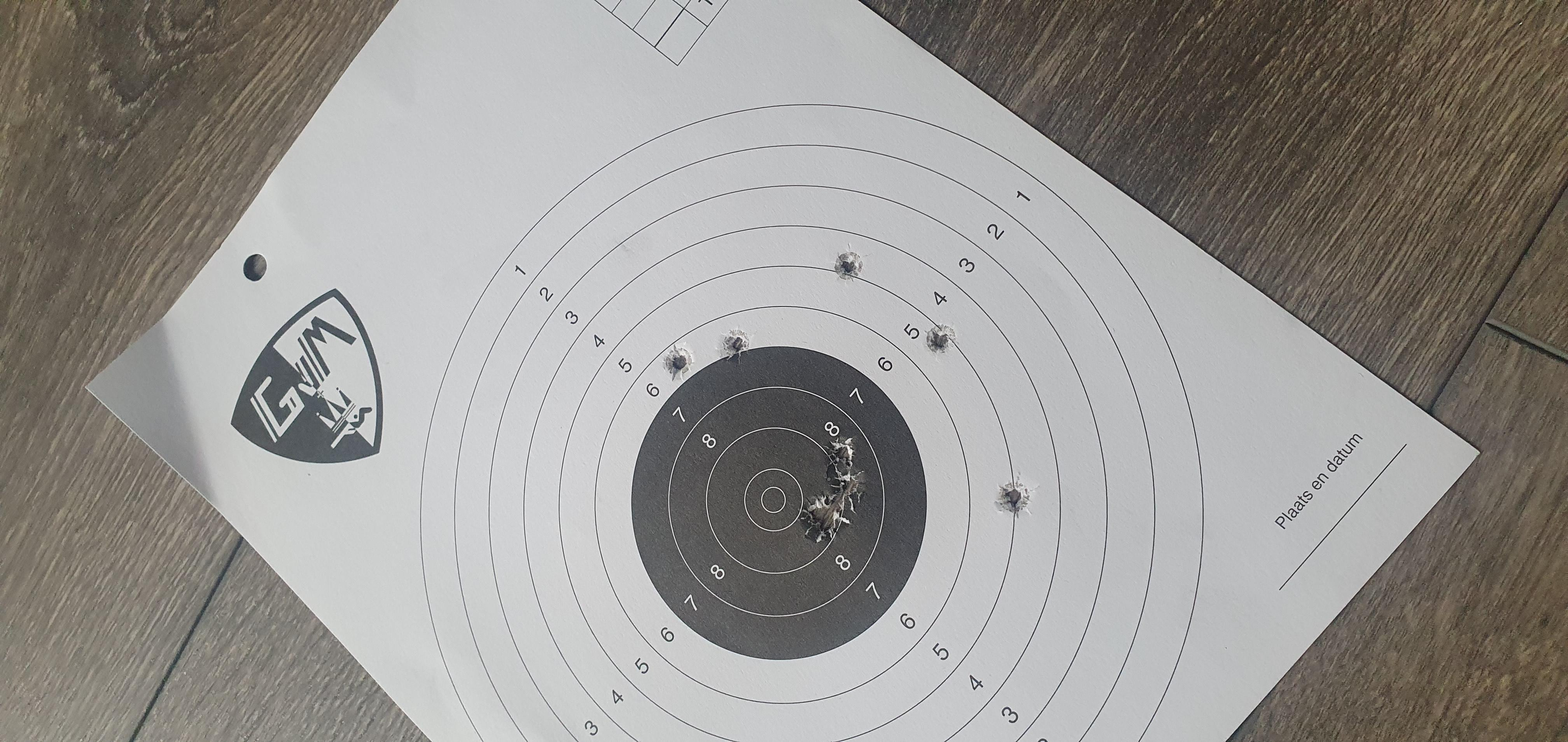hole: (796, 338, 886, 356), (766, 312, 846, 329), (472, 471, 551, 488), (815, 437, 891, 454), (974, 394, 1042, 409), (503, 394, 571, 408), (452, 379, 517, 393), (576, 391, 638, 404), (425, 385, 481, 399)
